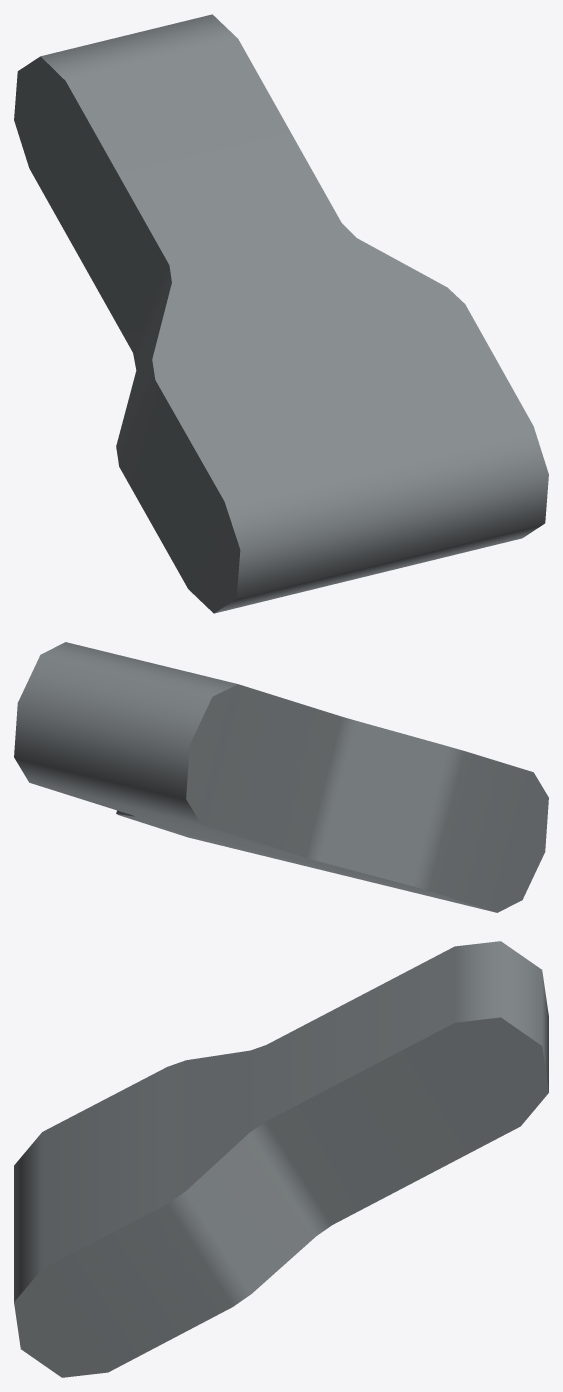
The model's file is Turret_011_Part_02.fbx.
3 views of the same model, one above another, from view 1: azimuth 30°, elevation 25°; view 2: azimuth 150°, elevation 25°; view 3: azimuth 270°, elevation 25° (orthographic). The views are drawn at different scales.
Parts seen in each view (by area): view 1: Turret_011_Part_02; view 2: Turret_011_Part_02; view 3: Turret_011_Part_02.
Part boxes in pixels (bbox=[...]): Turret_011_Part_02: bbox=[14, 14, 548, 613]; Turret_011_Part_02: bbox=[14, 642, 548, 912]; Turret_011_Part_02: bbox=[14, 941, 548, 1377].
Size of the model in its own units: 32.6 by 53.67 by 36.55.
